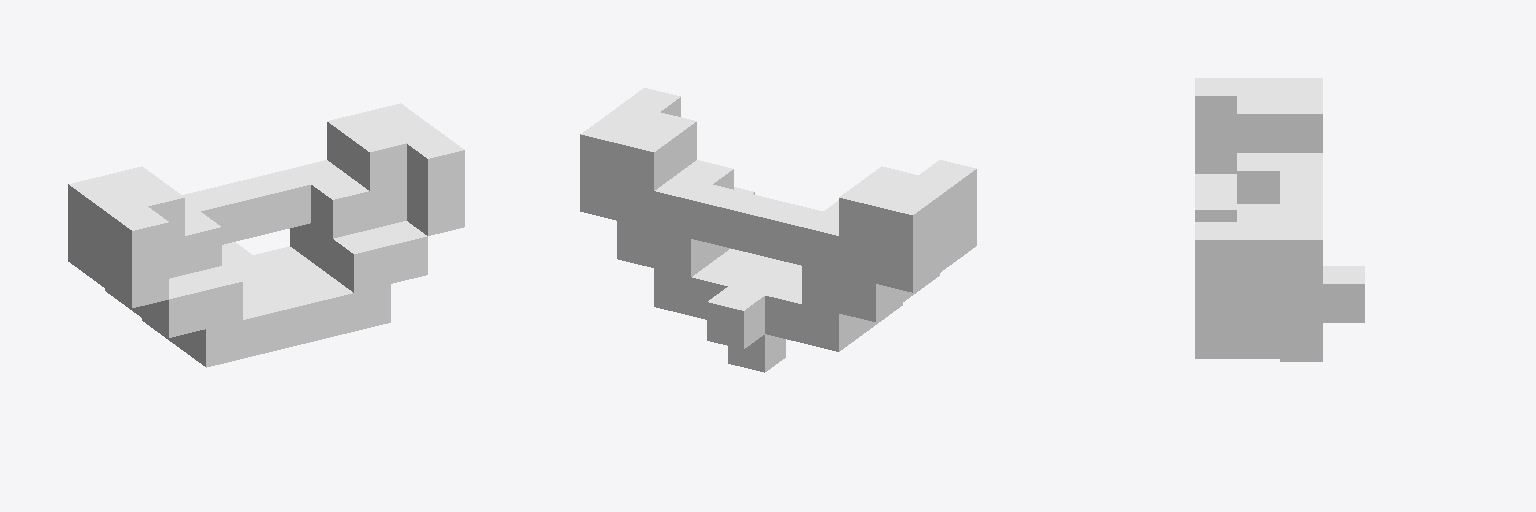
Rendered from Skelton_Pelvis.obj.
The picture shows the model from 3 angles: view 1: azimuth 30°, elevation 25°; view 2: azimuth 150°, elevation 25°; view 3: azimuth 270°, elevation 25°; orthographic projection.
Size of the model in its own units: 9 by 5 by 4.